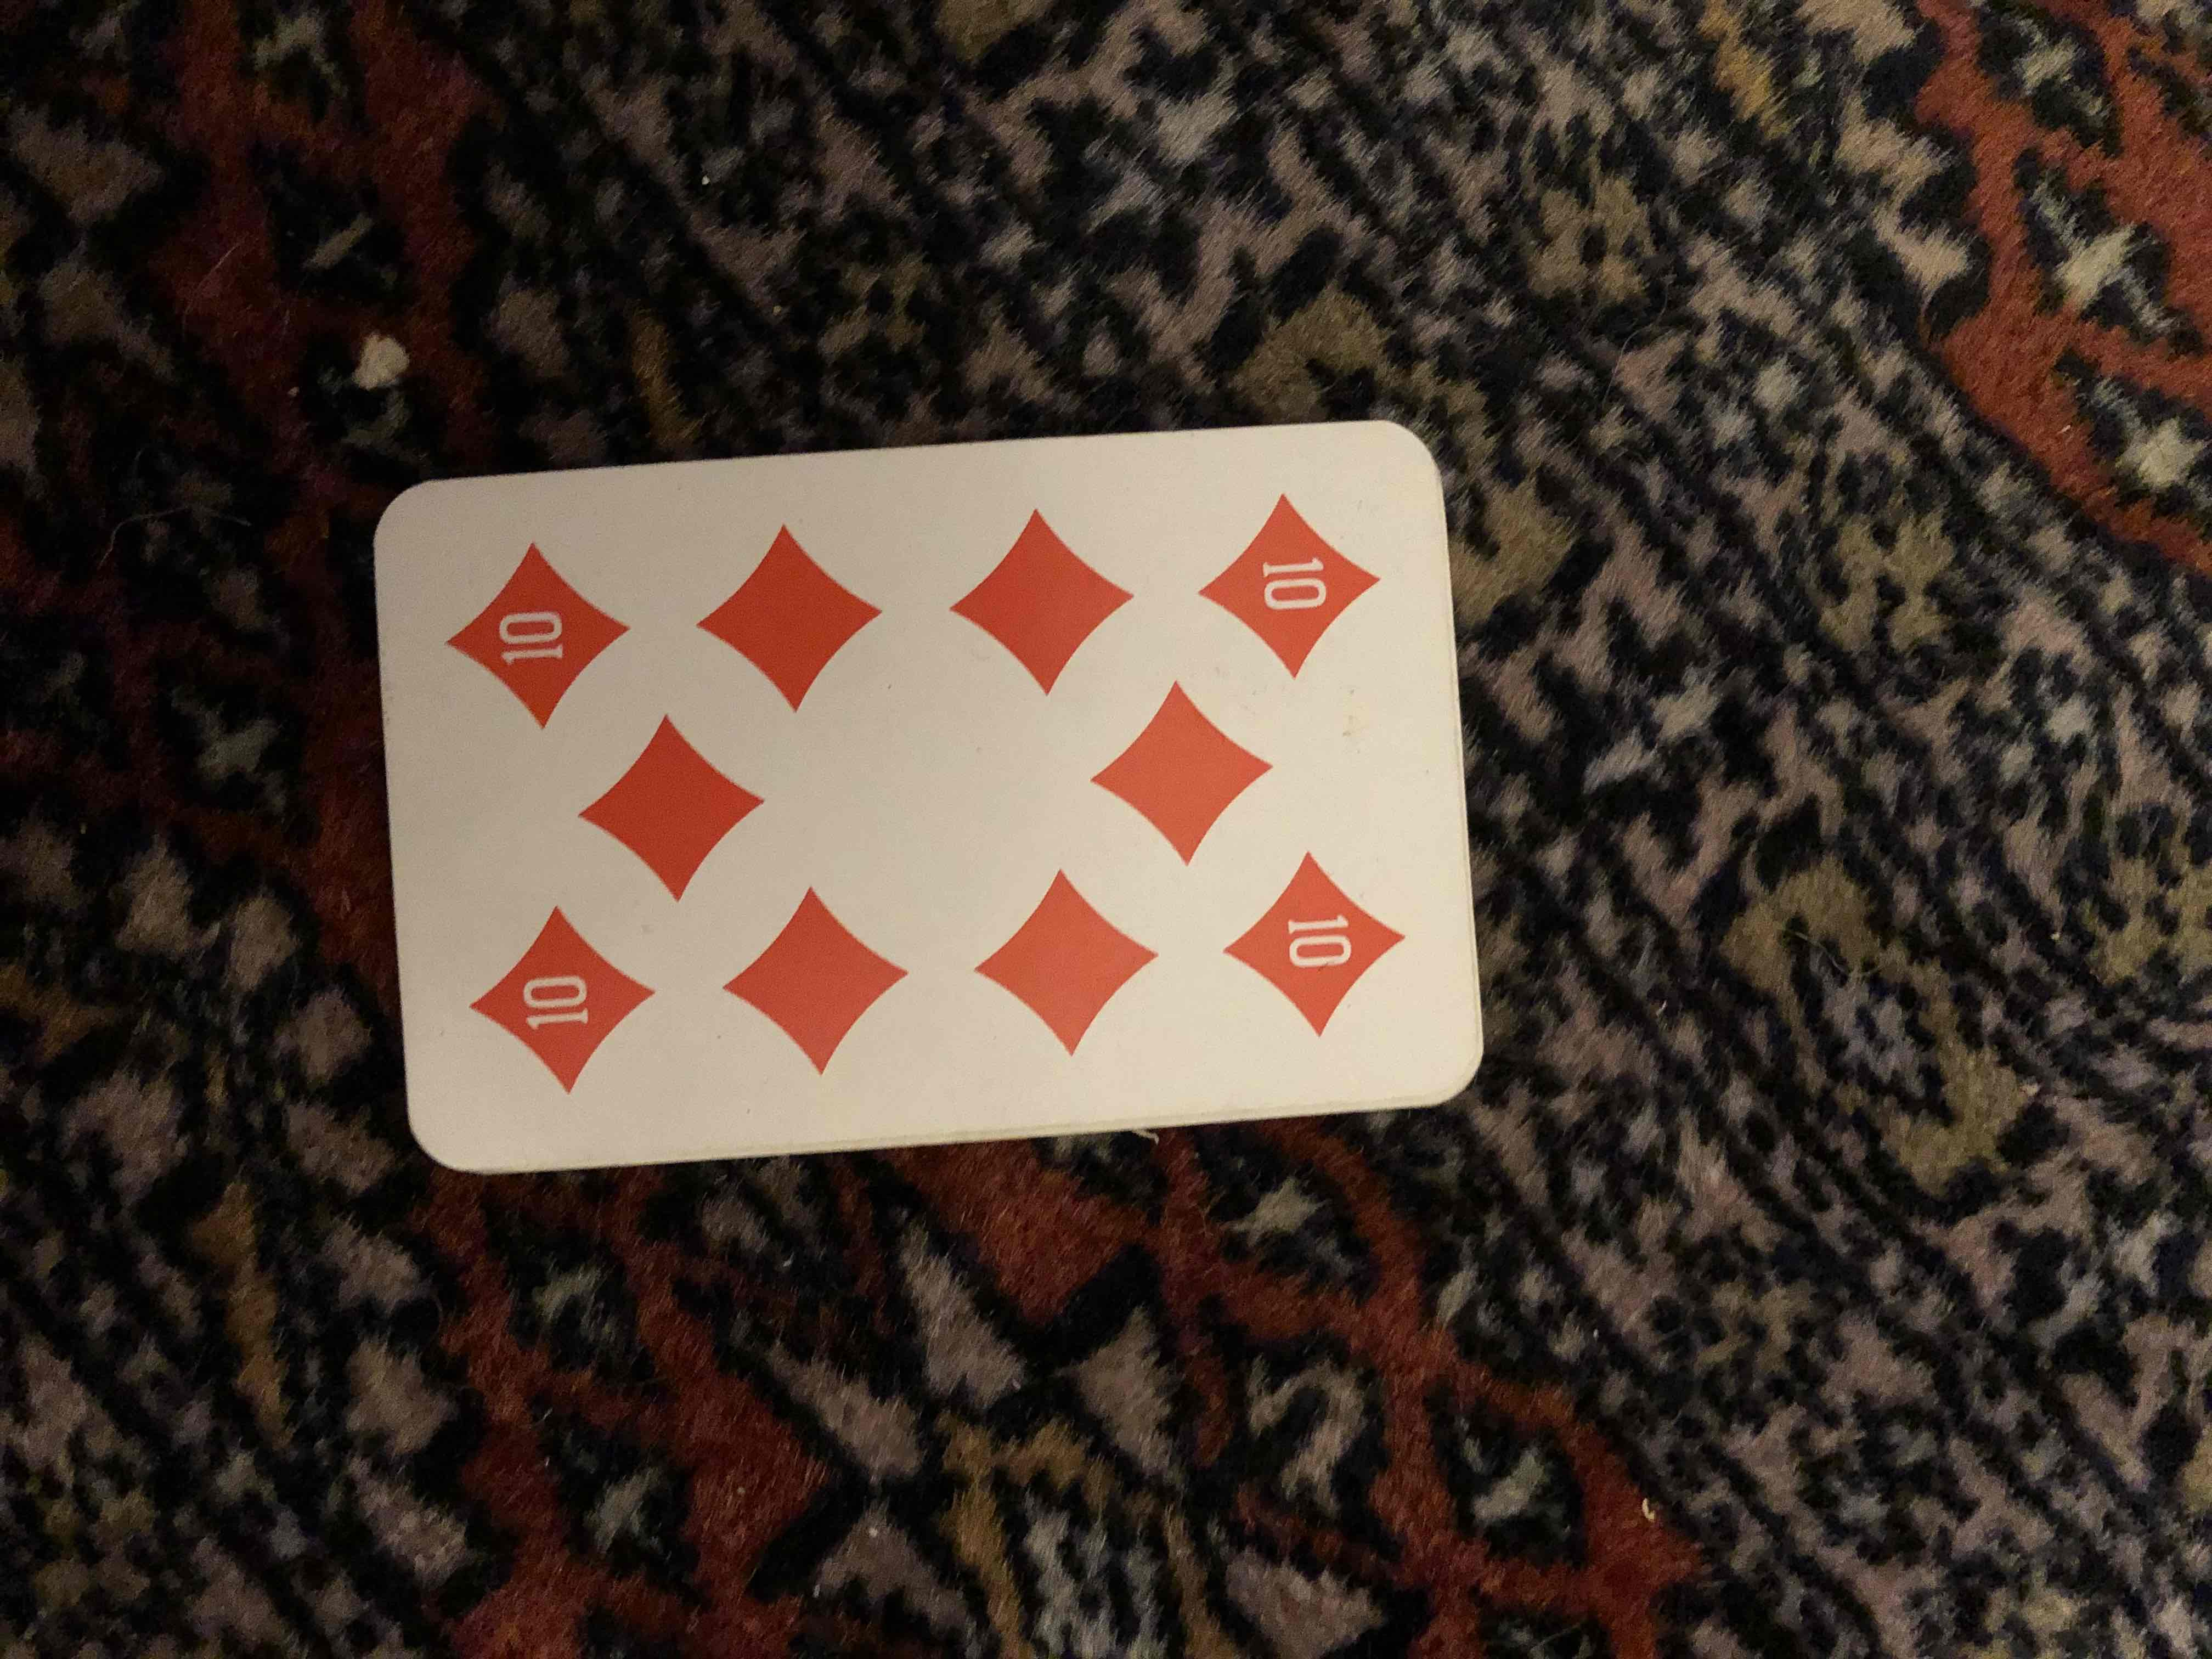diamond10: (376, 460, 1501, 1114)
